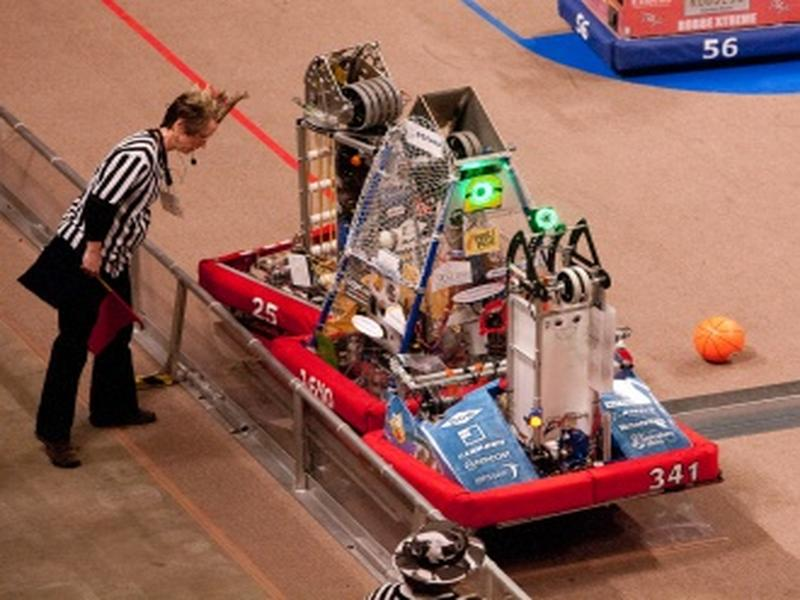robot: (272, 102, 596, 419), (371, 247, 711, 512), (210, 50, 475, 328)
